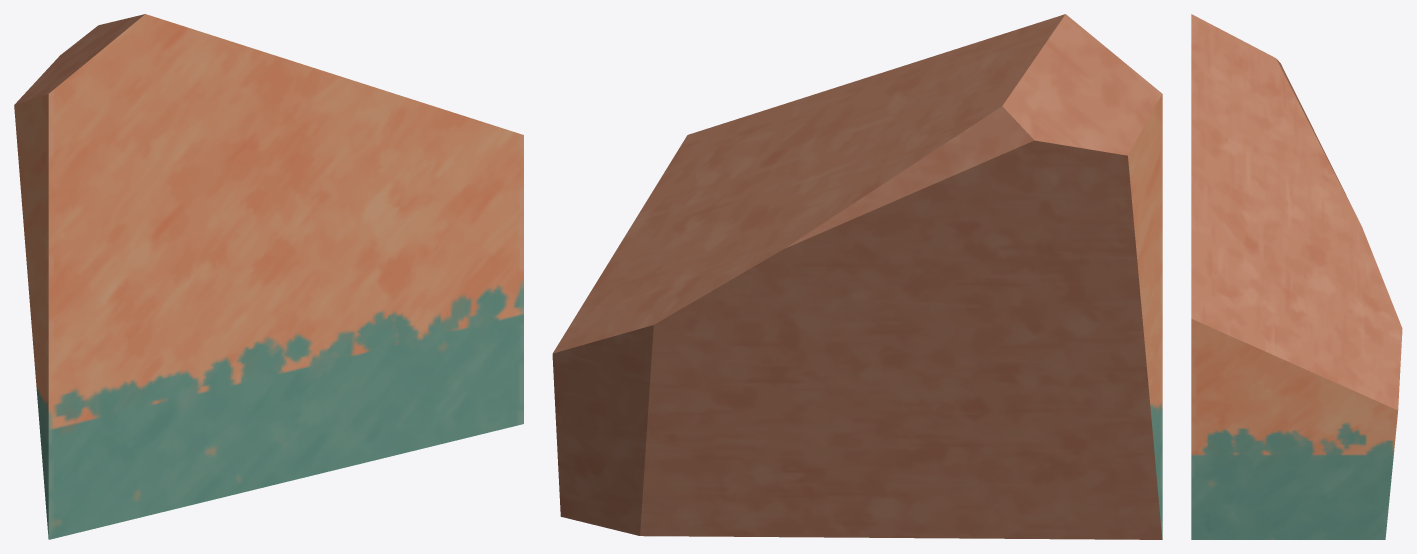
The model's file is stairs_s01.fbx.
3 views of the same model, side by side, from view 1: azimuth 30°, elevation 25°; view 2: azimuth 150°, elevation 25°; view 3: azimuth 270°, elevation 25° (orthographic). The views are drawn at different scales.
Parts seen in each view (by area): view 1: stairs_s01; view 2: stairs_s01; view 3: stairs_s01.
Boxes of the visible parts, x1=… form: stairs_s01: x1=14, y1=14, x2=523, y2=539; stairs_s01: x1=552, y1=14, x2=1162, y2=539; stairs_s01: x1=1191, y1=14, x2=1402, y2=539.
Size of the model in its own units: 8 by 8.08 by 4.02.
